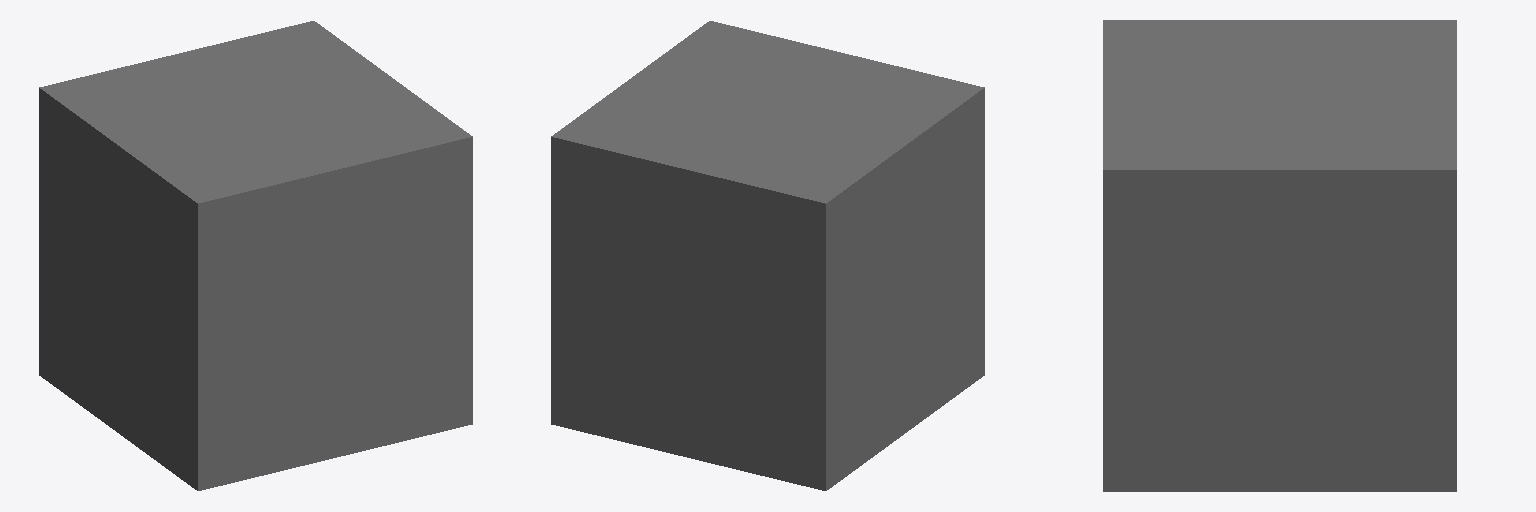
URDF robot description (block_hand):
<?xml version="1.0" ?>

<robot name="block_hand" xmlns:xacro="http://www.ros.org/wiki/xacro">
  <link name="block_hand_box">
    <inertial>
      <mass value="1.0"/>
      <origin xyz="0 0 0"/>
      <inertia ixx="0.001" ixy="0.0" ixz="0.0" iyy="0.001" iyz="0.0" izz="0.001"/>
    </inertial>
    <visual>
      <geometry>
        <box size="0.1 0.1 0.1"/>
      </geometry>
      <material name="gray">
        <color rgba="0.5 0.5 .5 1"/>
      </material>
      <origin rpy="0 0 0" xyz="0 0 0"/>
    </visual>
    <collision group="block_hand">
      <geometry>
        <box size="0.1 0.1 0.1"/>
      </geometry>
      <material name="red">
        <color rgba="1.0 0.0 .0 1"/>
      </material>
      <origin rpy="0 0 0" xyz="0 0 0"/>
    </collision>
  </link>
</robot>

--- Facts derived from the render (not from the file) ---
Views: 3 orthographic renders of the robot side by side, from view 1: azimuth 30°, elevation 25°; view 2: azimuth 150°, elevation 25°; view 3: azimuth 270°, elevation 25°.
Robot: block_hand — 1 links, 0 joints (none); root link block_hand_box; default pose: every joint at zero.
Links seen in each view (by area): view 1: block_hand_box; view 2: block_hand_box; view 3: block_hand_box.
Boxes of the visible links, x1=… form: block_hand_box: x1=39, y1=21, x2=472, y2=490; block_hand_box: x1=551, y1=21, x2=984, y2=490; block_hand_box: x1=1103, y1=20, x2=1456, y2=491.
Size in the robot's own frame: 0.1 by 0.1 by 0.1 metres.
Geometry: primitives only (box / cylinder / sphere), no mesh files.